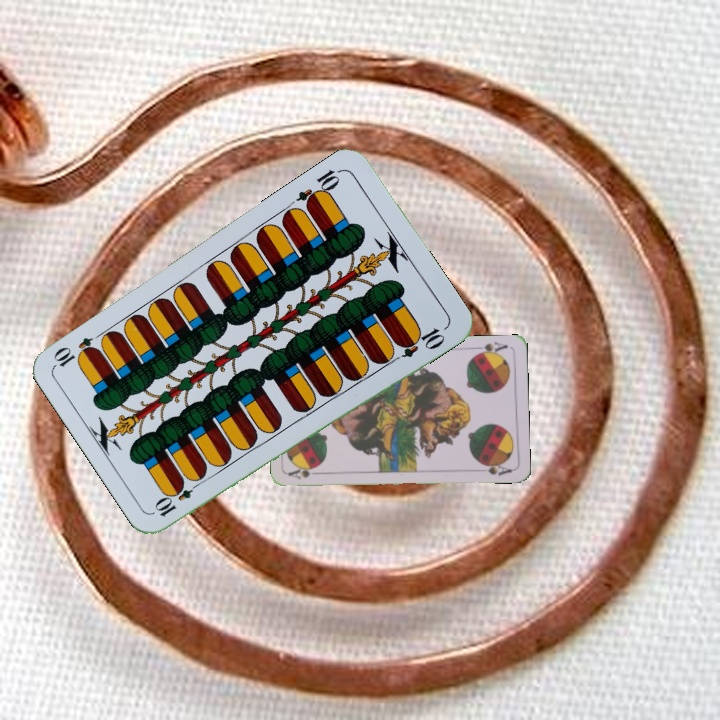E10: (293, 165, 345, 212), (151, 475, 204, 520)
SA: (470, 338, 510, 358), (285, 464, 326, 481)
